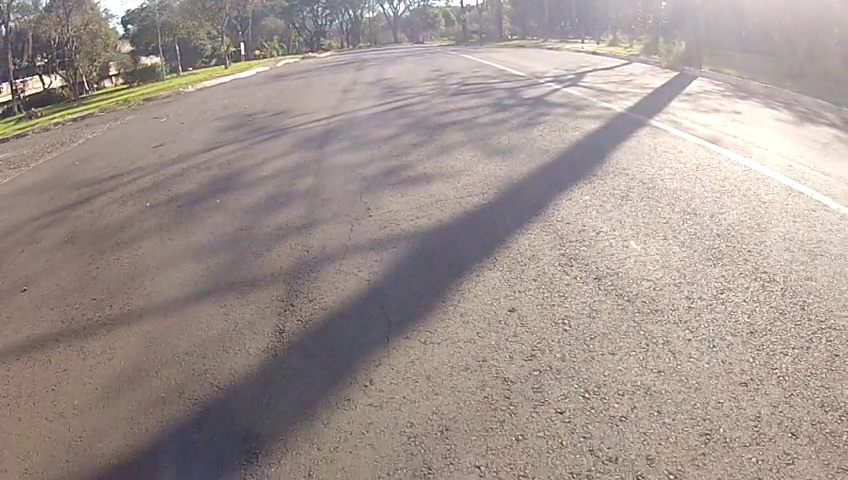TLT: (320, 215, 413, 356)
